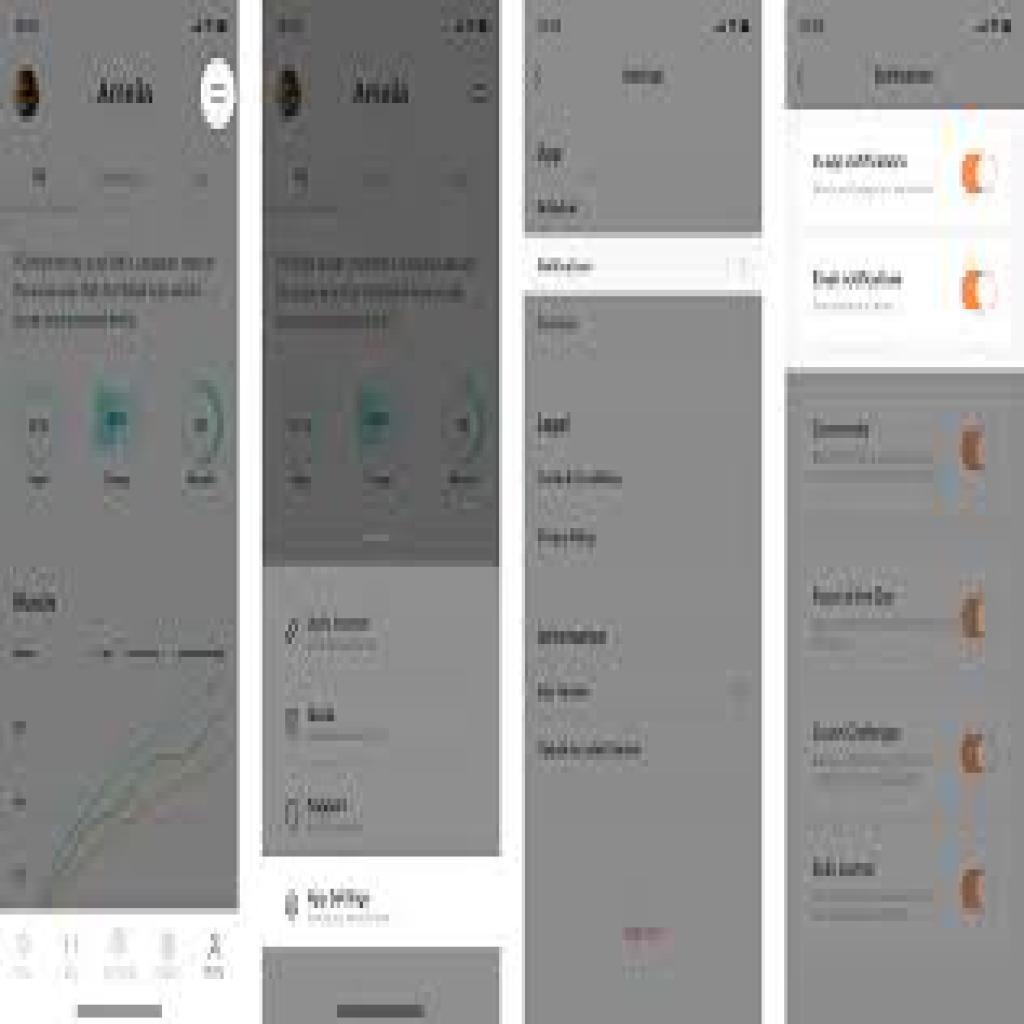switch: (961, 595, 1002, 645), (959, 732, 1005, 775), (961, 270, 1002, 313), (960, 869, 1002, 910), (962, 155, 1003, 196), (962, 431, 998, 471)
